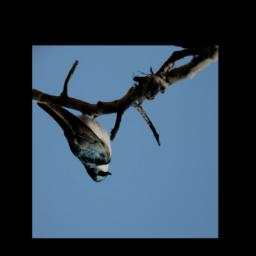Swallow: (35, 99, 114, 184)
